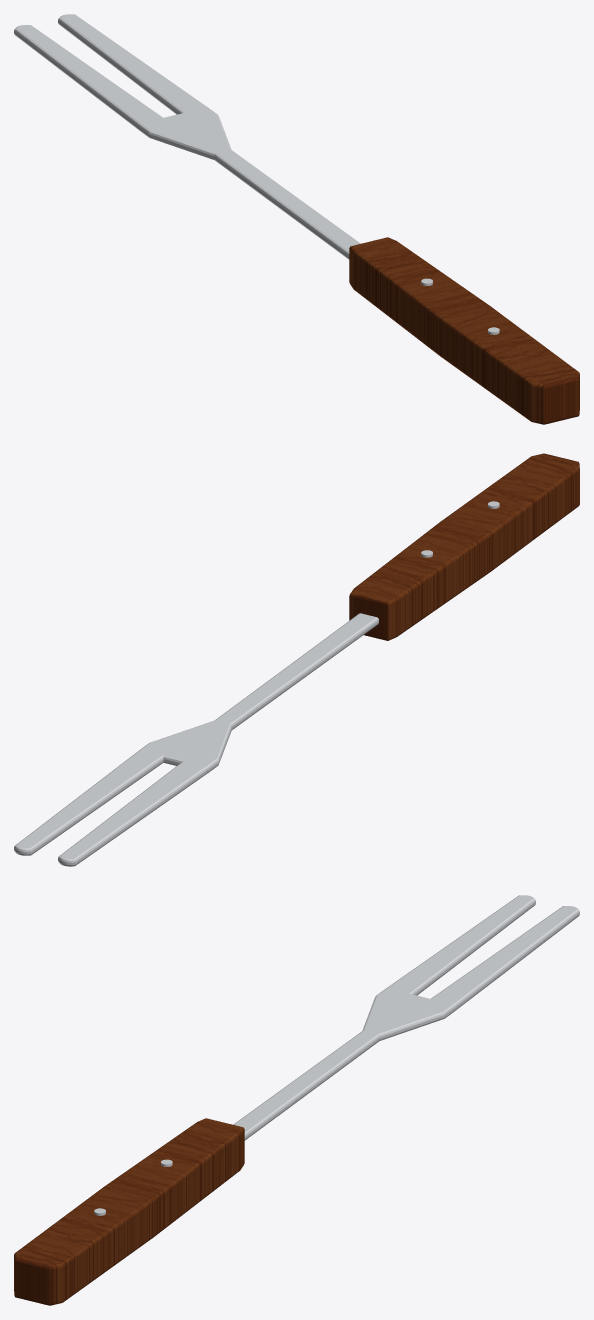
The model's file is CUB-36.glb.
3 renders of one model, top to bottom at view 1: azimuth 30°, elevation 25°; view 2: azimuth 150°, elevation 25°; view 3: azimuth 330°, elevation 25°, orthographic.
Bounding box in the file's own units: 0.0298 × 0.017 × 0.3816.
4 materials, 1 textured.
